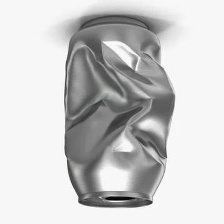can: (57, 11, 178, 212)
